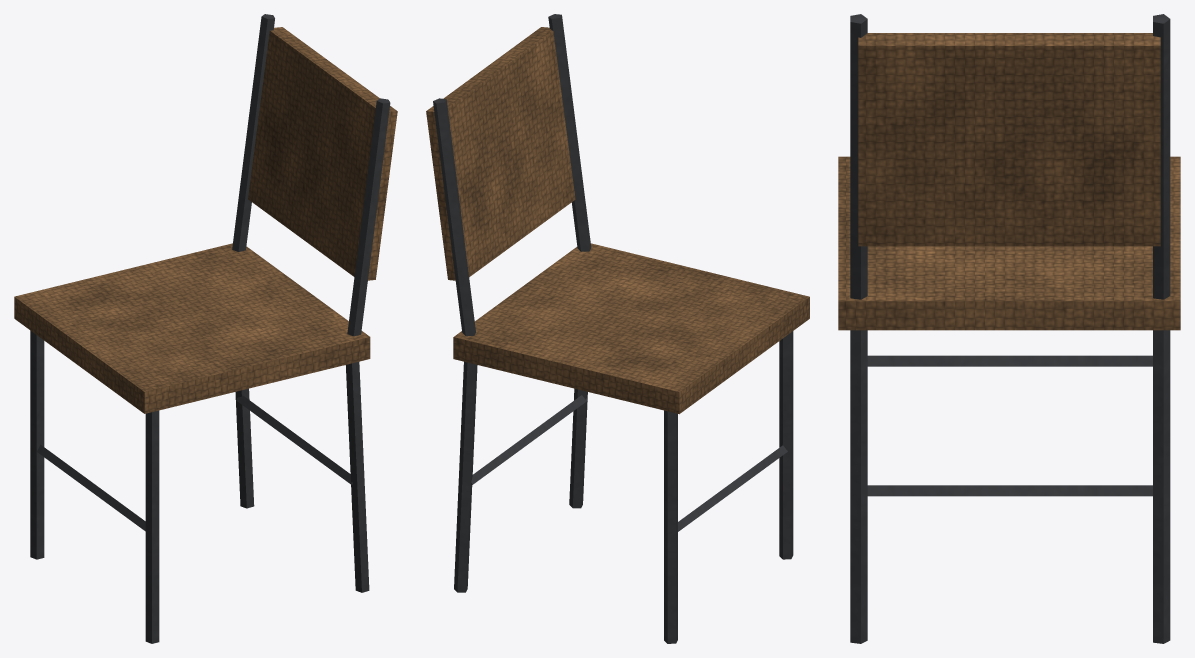
The model's file is SM_Morin_Sedia.fbx.
3 views of the same model, side by side, from view 1: azimuth 30°, elevation 25°; view 2: azimuth 150°, elevation 25°; view 3: azimuth 270°, elevation 25° (orthographic). The views are drawn at different scales.
Visible parts, largest first — view 1: SM_Morin_Sedia; view 2: SM_Morin_Sedia; view 3: SM_Morin_Sedia.
Boxes of the visible parts, x1,y1,x2,y2 form: SM_Morin_Sedia: (14,14,397,643); SM_Morin_Sedia: (426,14,809,643); SM_Morin_Sedia: (838,14,1180,643).
Size of what is drawn, in the model's own units: 49.66 by 43 by 88.21.
1 material, 1 textured.
